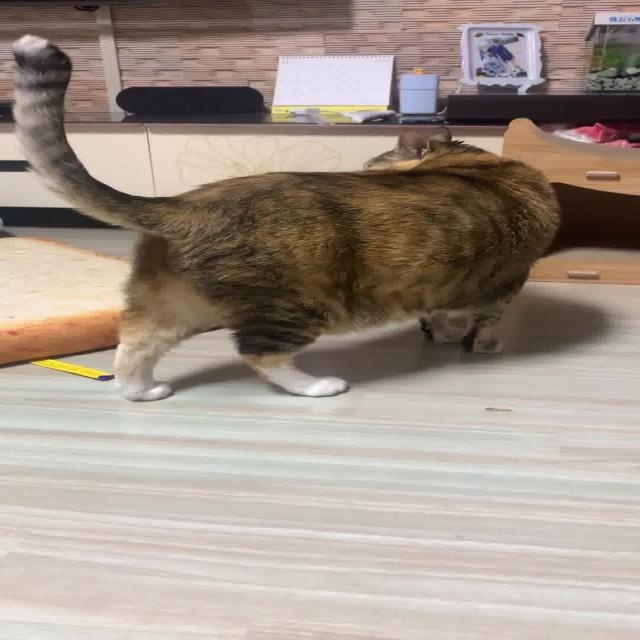cat: (4, 27, 562, 404)
